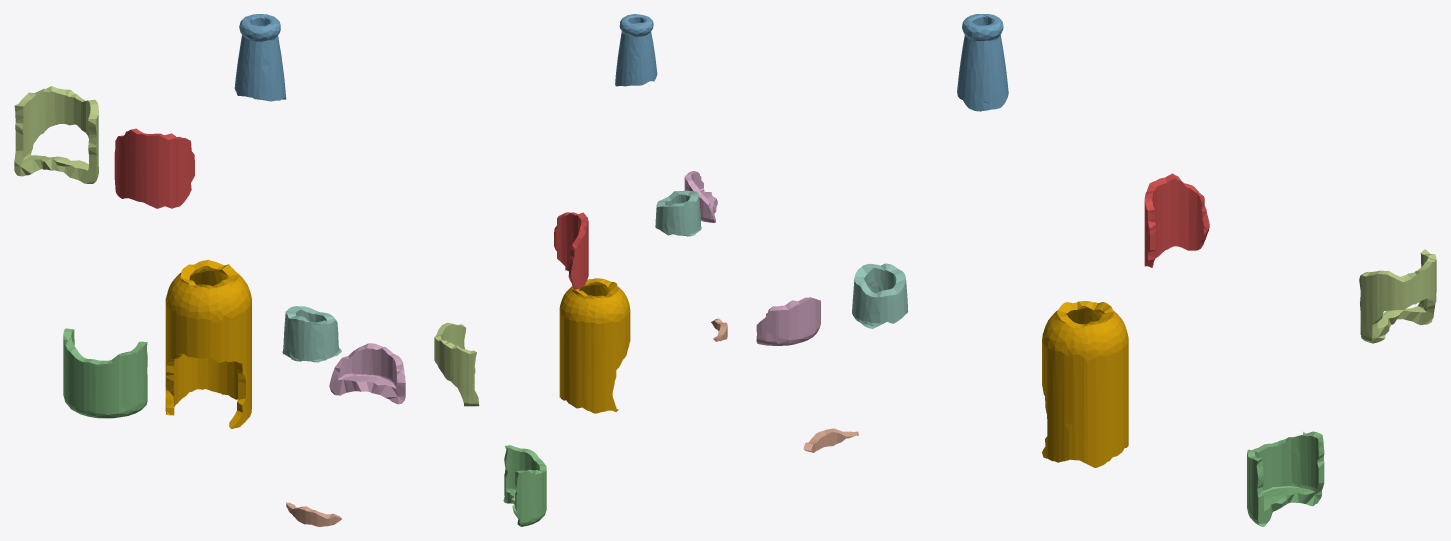
File: fractured_24_8pcs_transformed.glb
3 views of the same model, side by side, from view 1: azimuth 30°, elevation 25°; view 2: azimuth 150°, elevation 25°; view 3: azimuth 270°, elevation 25° (orthographic). The views are drawn at different scales.
Parts seen in each view (by area): view 1: piece_0.obj, piece_3.obj, piece_1.obj, piece_5.obj, piece_2.obj, piece_6.obj, piece_4.obj, piece_7.obj; view 2: piece_0.obj, piece_3.obj, piece_2.obj, piece_5.obj, piece_1.obj, piece_4.obj, piece_6.obj; view 3: piece_0.obj, piece_3.obj, piece_5.obj, piece_1.obj, piece_2.obj, piece_4.obj, piece_6.obj.
Part boxes in pixels (x1=…): piece_0.obj: x1=165, y1=259, x2=251, y2=428; piece_3.obj: x1=63, y1=328, x2=147, y2=418; piece_1.obj: x1=114, y1=128, x2=194, y2=208; piece_5.obj: x1=14, y1=86, x2=98, y2=183; piece_2.obj: x1=234, y1=14, x2=286, y2=101; piece_6.obj: x1=329, y1=343, x2=405, y2=404; piece_4.obj: x1=282, y1=306, x2=341, y2=362; piece_7.obj: x1=286, y1=502, x2=341, y2=526; piece_0.obj: x1=559, y1=278, x2=630, y2=413; piece_3.obj: x1=503, y1=445, x2=546, y2=526; piece_2.obj: x1=615, y1=14, x2=657, y2=86; piece_5.obj: x1=434, y1=322, x2=479, y2=406; piece_1.obj: x1=554, y1=212, x2=588, y2=289; piece_4.obj: x1=655, y1=190, x2=701, y2=236; piece_6.obj: x1=684, y1=171, x2=717, y2=222; piece_0.obj: x1=1042, y1=301, x2=1128, y2=467; piece_3.obj: x1=1247, y1=431, x2=1324, y2=526; piece_5.obj: x1=1359, y1=249, x2=1436, y2=343; piece_1.obj: x1=1144, y1=173, x2=1209, y2=267; piece_2.obj: x1=957, y1=14, x2=1008, y2=111; piece_4.obj: x1=852, y1=263, x2=908, y2=328; piece_6.obj: x1=756, y1=297, x2=820, y2=345.
Bounding box in the file's own units: 0.2541 × 1.6 × 1.99.
